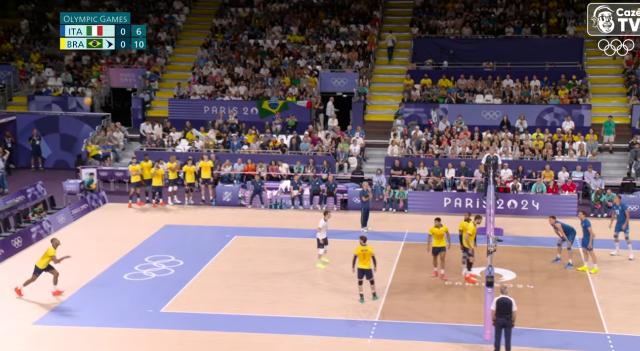Levantador: (355, 234, 375, 298)
Libero: (314, 210, 332, 270)
bola: (80, 95, 94, 109)
